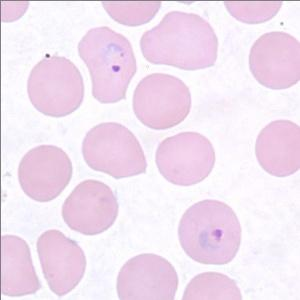Infected: (178, 197, 241, 265), (80, 28, 137, 101)
Uninfected: (140, 13, 219, 69), (27, 56, 87, 118), (83, 123, 145, 181), (132, 73, 189, 131), (38, 232, 88, 296), (18, 144, 73, 202), (61, 181, 120, 235), (156, 132, 214, 186), (115, 253, 178, 300), (249, 30, 299, 88), (254, 116, 300, 178)
